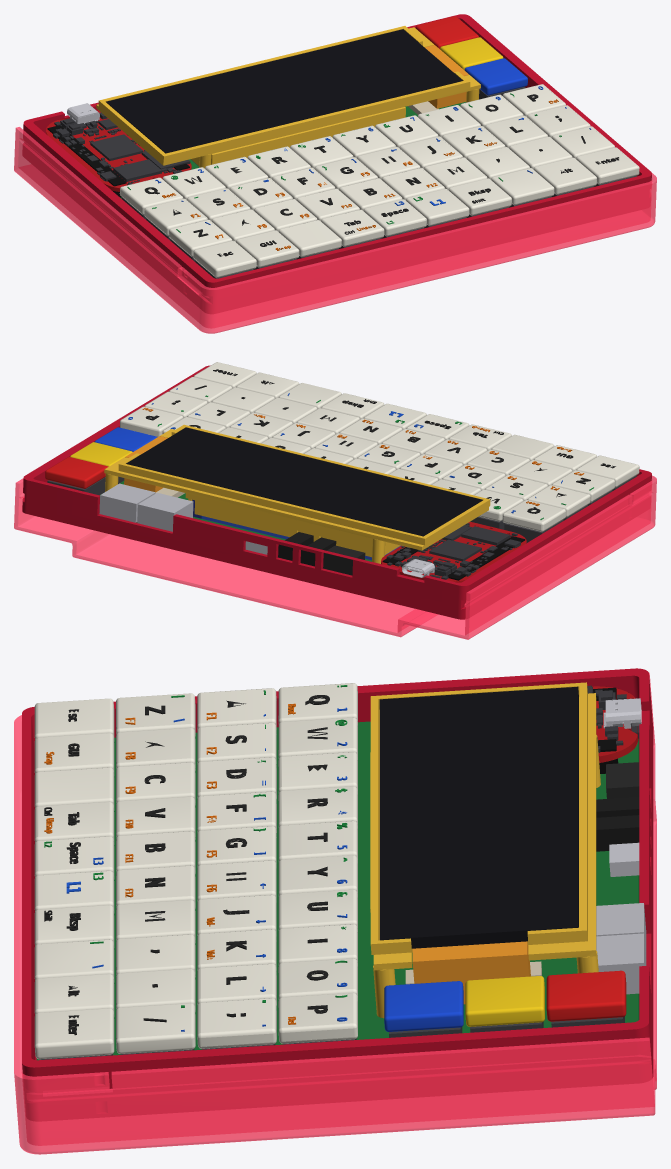
The model's file is cradle_strawberry.glb.
3 views of the same model, one above another, from view 1: azimuth 30°, elevation 25°; view 2: azimuth 150°, elevation 25°; view 3: azimuth 270°, elevation 25° (orthographic). The views are drawn at different scales.
Visible parts, largest first — view 1: Internals, Lid, Tray; view 2: Internals, Lid, Tray; view 3: Internals, Lid, Tray.
Part boxes in pixels (x1,y1,x2,y2): Internals: [46, 16, 639, 278]; Lid: [14, 127, 656, 333]; Tray: [23, 14, 651, 313]; Internals: [45, 362, 639, 582]; Lid: [14, 475, 656, 639]; Tray: [22, 365, 651, 619]; Internals: [34, 682, 646, 1060]; Lid: [14, 672, 656, 1154]; Tray: [22, 668, 653, 1120].
Size of the model in its own units: 0.1818 by 0.0365 by 0.1342.
